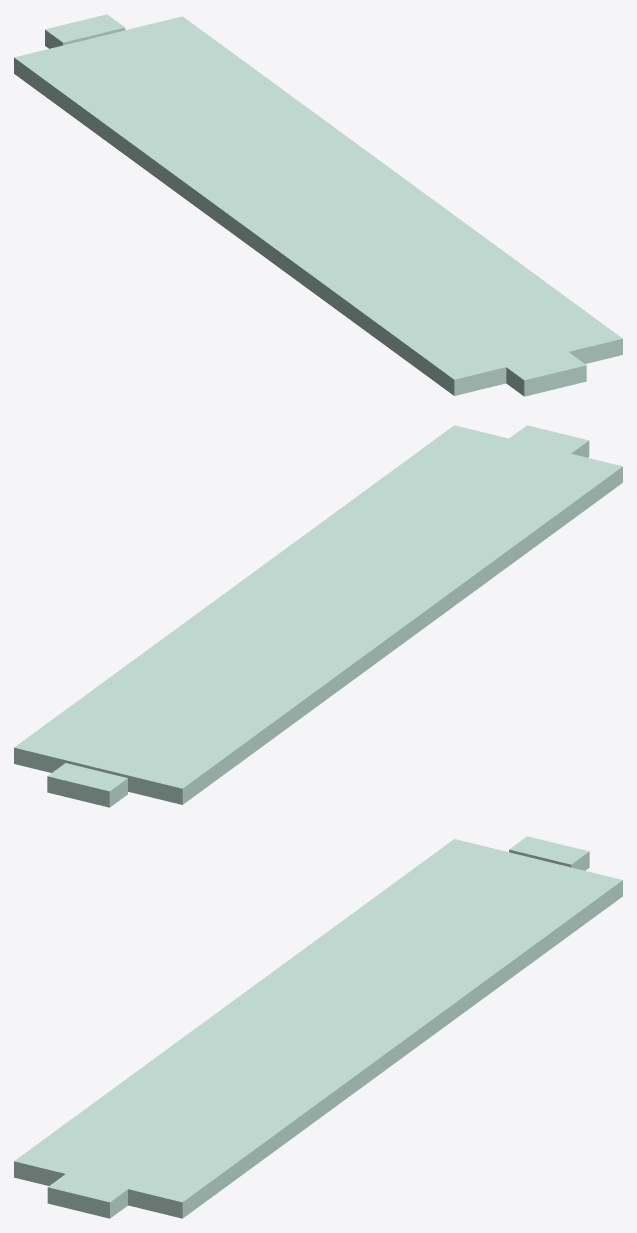
3 views of the same model, one above another, from view 1: azimuth 30°, elevation 25°; view 2: azimuth 150°, elevation 25°; view 3: azimuth 330°, elevation 25° (orthographic).
Parts seen in each view (by area): view 1: Renderer Node; view 2: Renderer Node; view 3: Renderer Node.
Boxes of the visible parts, x1,y1,x2,y2 form: Renderer Node: [14, 14, 622, 396]; Renderer Node: [14, 425, 622, 807]; Renderer Node: [14, 836, 622, 1218].
Size of the model in its own units: 0.2539 by 0.0234 by 1.25.
